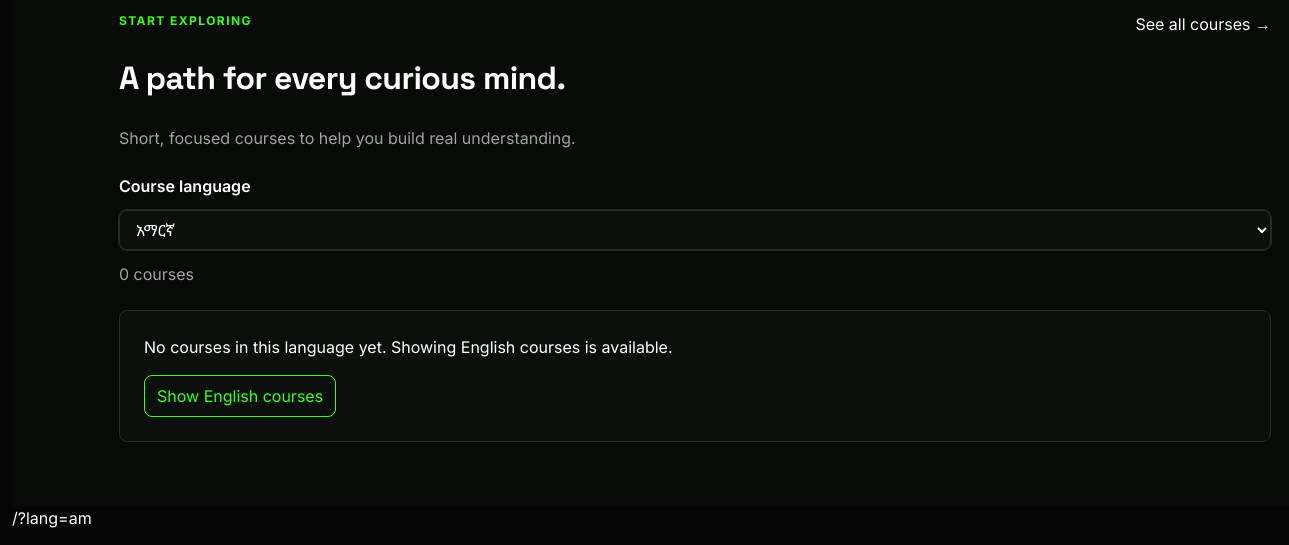
Scenario: course language filter › shows an empty state and offers English courses when nothing matches
Expected: the text "No courses in this language yet. Showing English courses is available." is shown, [144,337,672,357]
Click the button "Show English courses": (240, 396) [144,375,336,417]
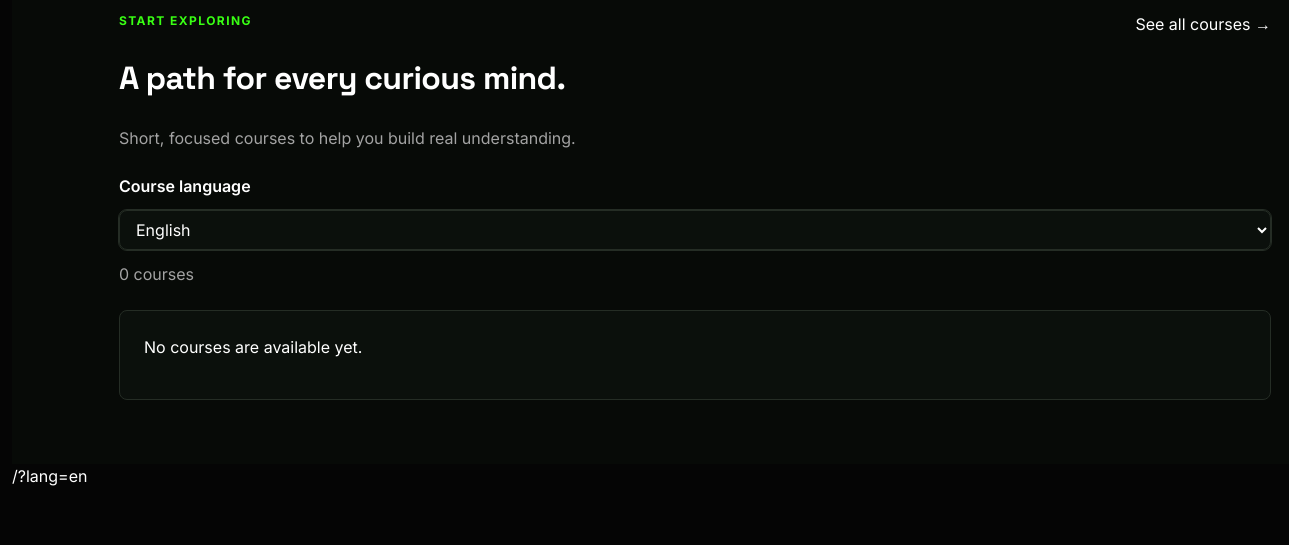
Expected: the text with test id "location" reads "/?lang=en", [12,466,87,486]
